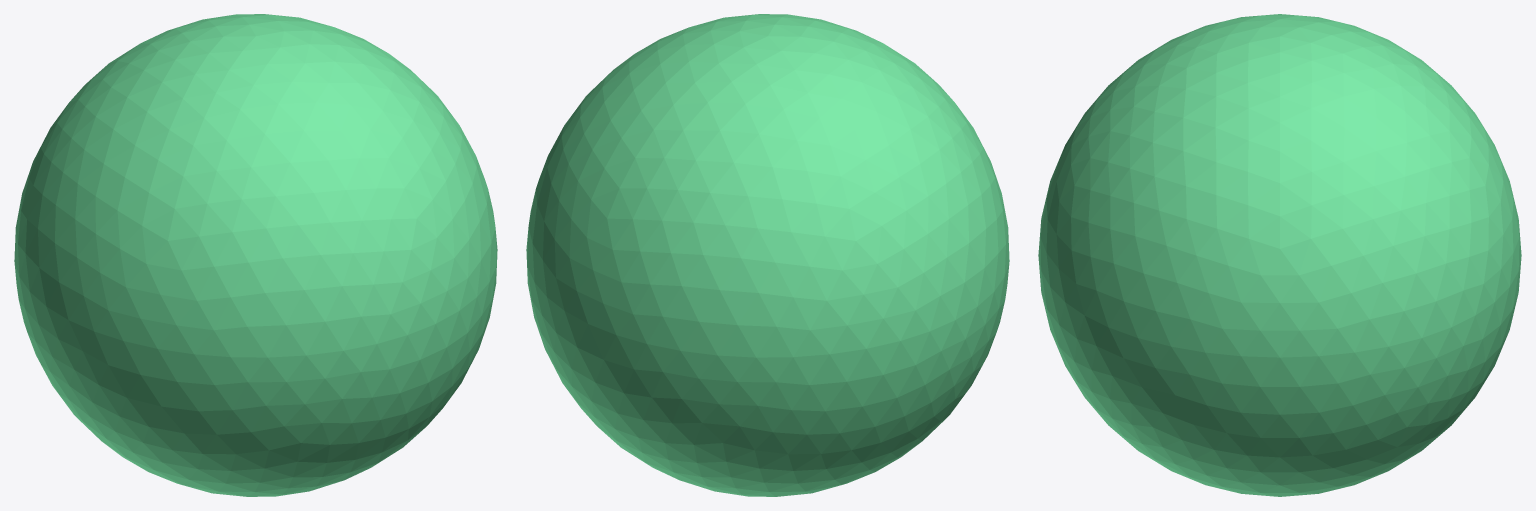
File: golf_ball.glb
The picture shows the model from 3 angles, left to right: view 1: azimuth 30°, elevation 25°; view 2: azimuth 150°, elevation 25°; view 3: azimuth 270°, elevation 25°; orthographic projection.
Visible parts, largest first — view 1: Icosphere; view 2: Icosphere; view 3: Icosphere.
Boxes of the visible parts, box(x1,y1,x2,y2) form: Icosphere: box(14, 14, 497, 496); Icosphere: box(526, 14, 1009, 496); Icosphere: box(1038, 14, 1521, 496).
Size of the model in its own units: 0.042 by 0.042 by 0.042.
